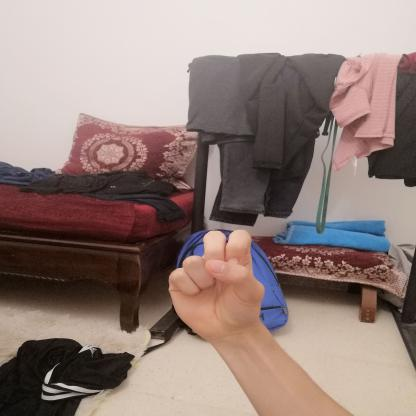QAAF: (156, 220, 288, 354)
